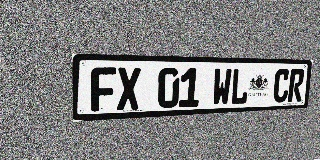0: (157, 68, 180, 108)
1: (179, 68, 200, 107)
C: (272, 69, 290, 103)
F: (91, 67, 116, 112)
L: (230, 68, 250, 105)
R: (287, 69, 305, 102)
W: (212, 68, 232, 106)
X: (117, 67, 141, 110)
